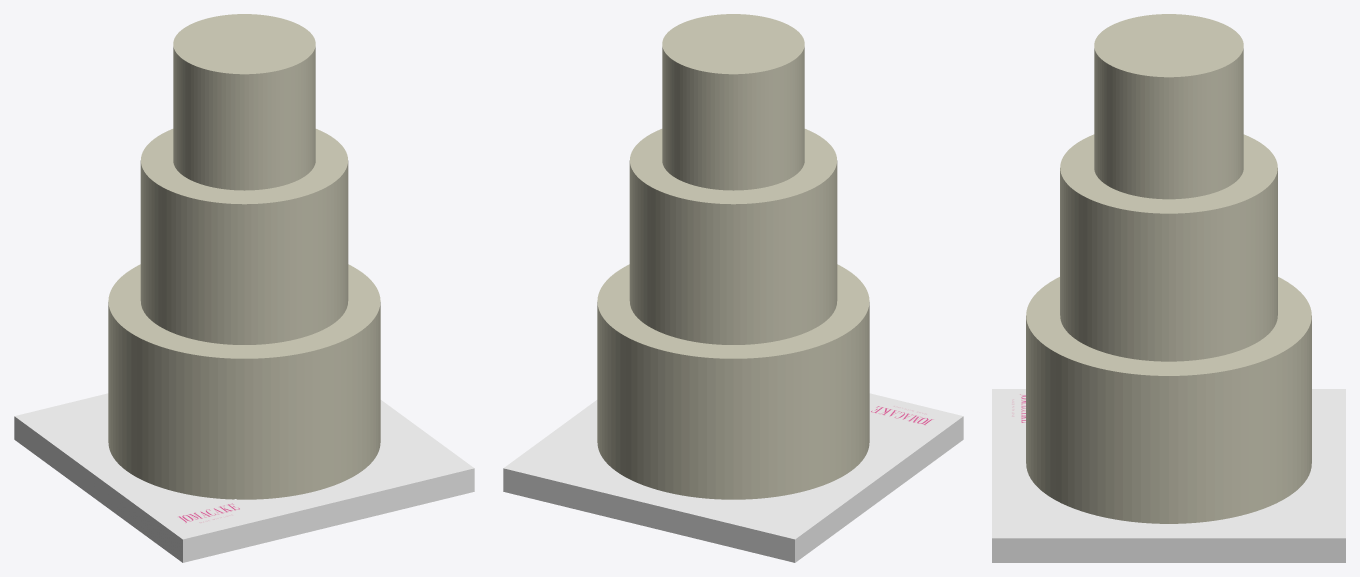
File: cake_tier3_8-6-4_layers3_v45.glb
The picture shows the model from 3 angles, left to right: view 1: azimuth 30°, elevation 25°; view 2: azimuth 150°, elevation 25°; view 3: azimuth 270°, elevation 25°; orthographic projection. The views are drawn at different scales.
Visible parts, largest first — view 1: Tier0, Tier1, Board, Tier2, Logo; view 2: Tier0, Tier1, Board, Tier2, Logo; view 3: Tier0, Tier1, Board, Tier2, Logo.
Part boxes in pixels (x1,y1,x2,y2): Tier0: (108,264,380,499); Tier1: (140,129,348,344); Board: (14,393,474,562); Tier2: (173,14,315,190); Logo: (166,499,255,530); Tier0: (597,264,869,499); Tier1: (629,129,837,344); Board: (503,393,963,562); Tier2: (662,14,804,190); Logo: (869,398,949,429); Tier0: (1026,277,1311,523); Tier1: (1060,134,1277,361); Board: (992,389,1345,562); Tier2: (1094,14,1243,199); Logo: (1002,390,1025,426).
Bounding box in the file's own units: 0.26 × 0.359 × 0.26.
